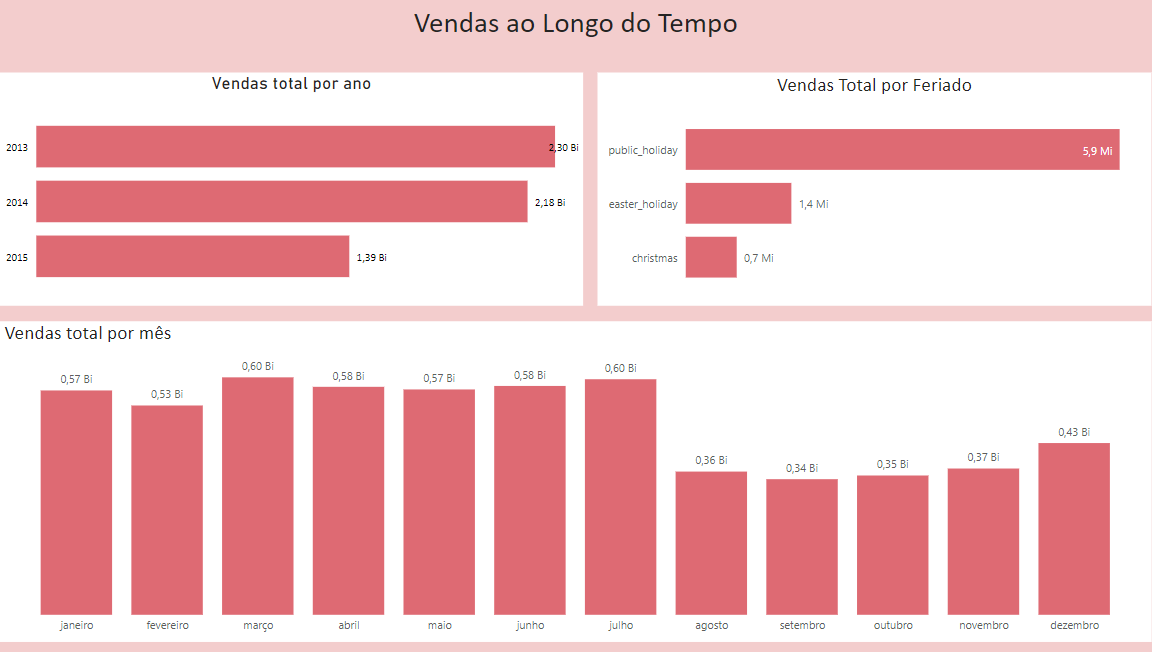

The page's visual inventory and layout, read from the dashboard file:
{"tool":"powerbi","page":{"name":"Análise ao longo do tempo","canvas":[1280,720],"ordinal":1},"visuals":[{"type":"textbox","box":[0,0,1264,64],"z":0},{"type":"clusteredBarChart","title":"Vendas total por ano","fields":{"Y":["rossmann_cleaned_database.Vendas Total"],"Category":["rossmann_cleaned_database.date.Variation.Hierarquia de datas.Ano"]},"box":[0,80,640,256],"z":1000},{"type":"clusteredColumnChart","title":"Vendas total por mês","fields":{"Y":["rossmann_cleaned_database.Vendas Total"],"Category":["rossmann_cleaned_database.date.Variation.Hierarquia de datas.Mês"]},"box":[0,352,1264,352],"z":2000},{"type":"clusteredBarChart","title":"Vendas Total por Feriado","fields":{"Category":["rossmann_cleaned_database.state_holiday"],"Y":["rossmann_cleaned_database.Vendas Total"]},"box":[656,80,608,256],"z":3000}]}

Visuals, with their boxes in screenshot pixels (x1, y1, x2, y2), scaled from the page's 1280x720 canvas onto the 1152x652 screenshot:
textbox: x1=0, y1=0, x2=1138, y2=58
"Vendas total por ano" clusteredBarChart: x1=0, y1=72, x2=576, y2=304
"Vendas total por mês" clusteredColumnChart: x1=0, y1=319, x2=1138, y2=638
"Vendas Total por Feriado" clusteredBarChart: x1=590, y1=72, x2=1138, y2=304
